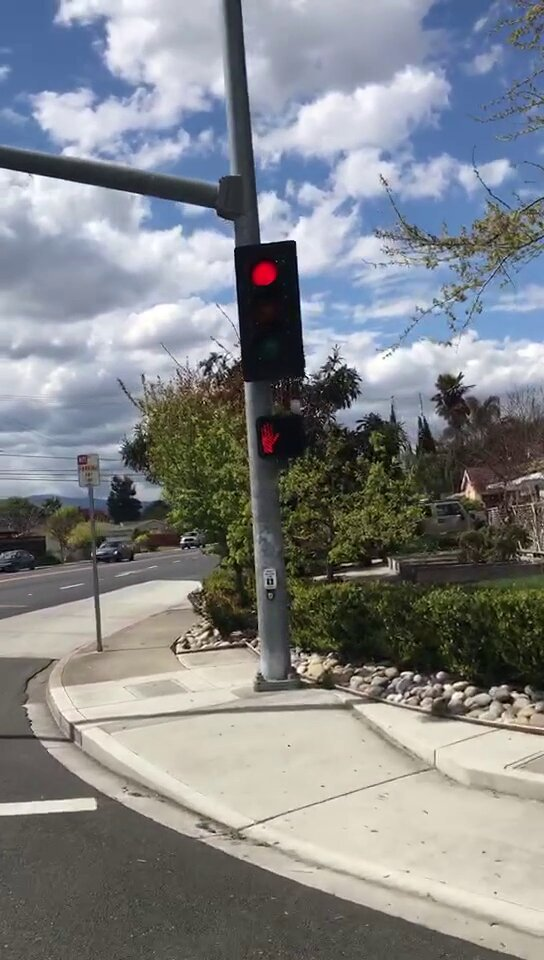red_light: (240, 247, 297, 379)
